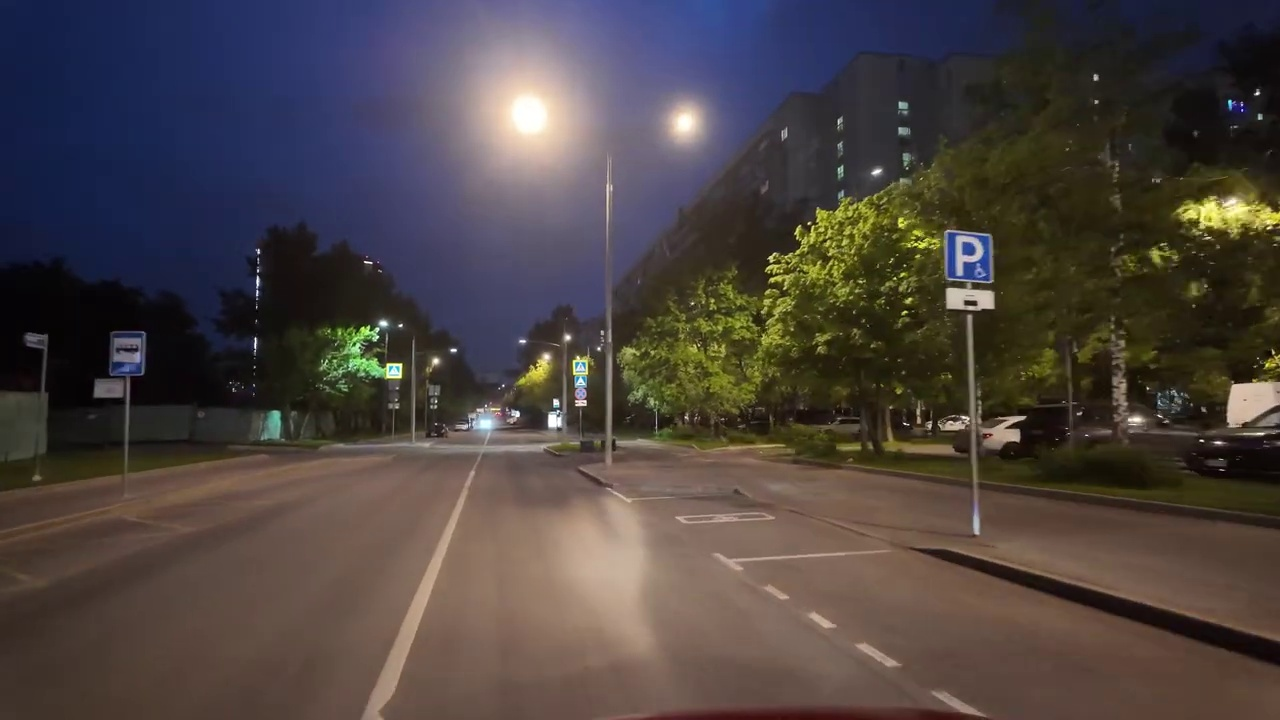acesa: (498, 87, 558, 143), (668, 105, 701, 140)
